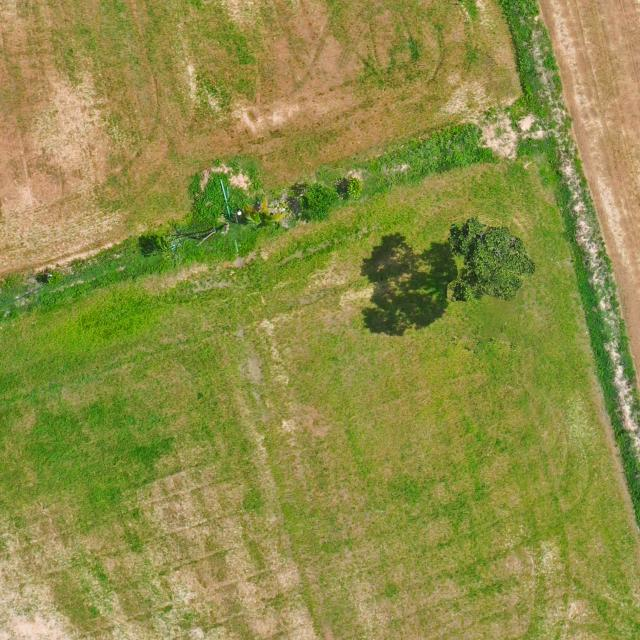Tree: (444, 216, 536, 303)
